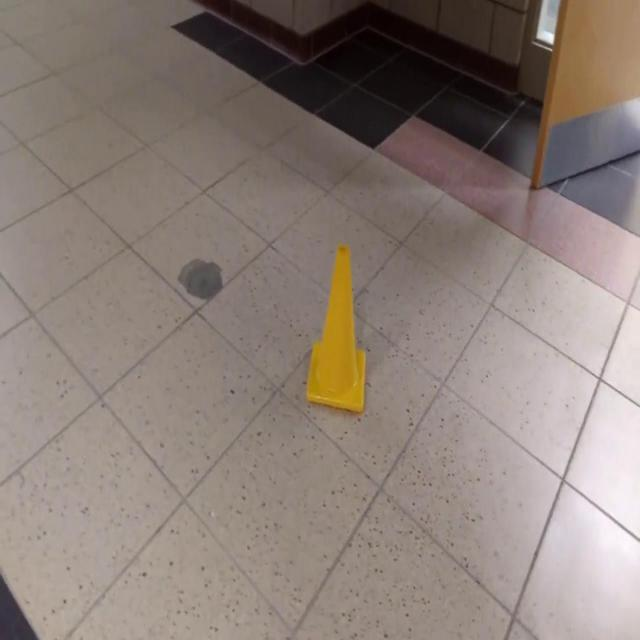frc_cone: (306, 234, 368, 418)
